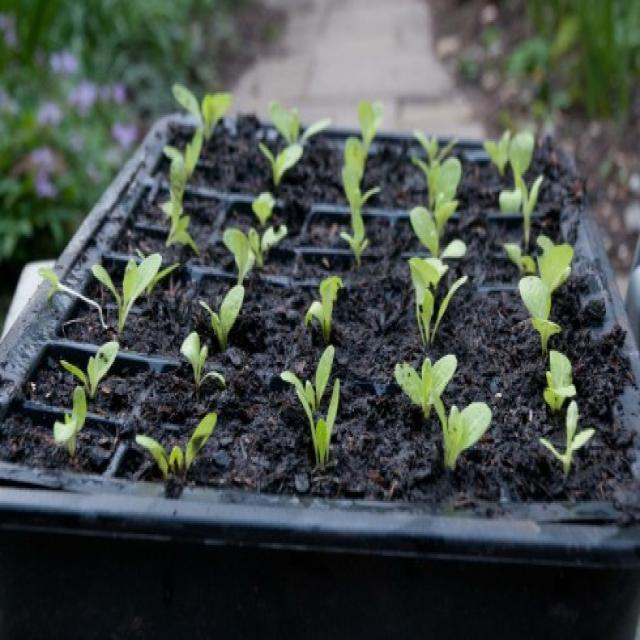Lettuce-Not-Ready-to-Harvest: (86, 248, 166, 342), (137, 412, 216, 476), (394, 346, 456, 427), (426, 392, 491, 464), (407, 271, 468, 347), (173, 329, 230, 407), (408, 201, 466, 276), (294, 386, 344, 464), (173, 78, 230, 140), (44, 384, 94, 454), (299, 272, 347, 342), (545, 406, 593, 470), (519, 276, 557, 351), (540, 348, 580, 418), (202, 289, 248, 349), (254, 143, 306, 193)
